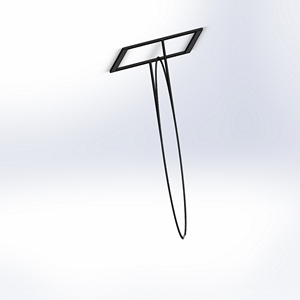circle: (107, 24, 211, 240)
